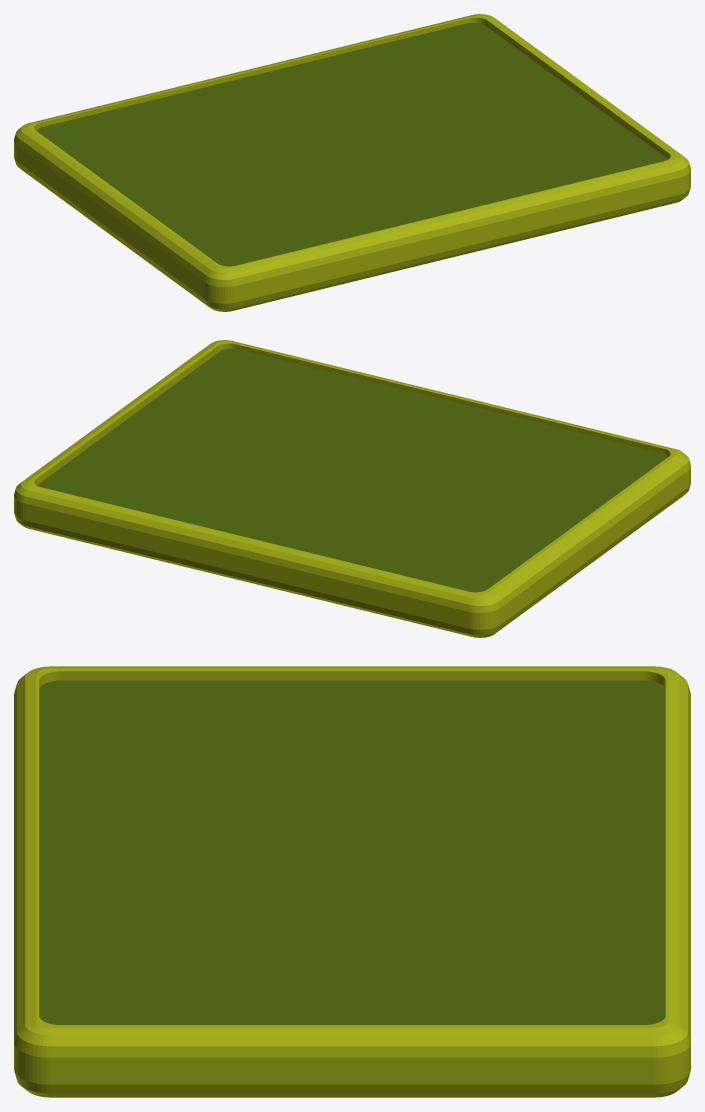
The model's file is moodlight.glb.
3 renders of one model, top to bottom at view 1: azimuth 30°, elevation 25°; view 2: azimuth 150°, elevation 25°; view 3: azimuth 270°, elevation 25°, orthographic. The views are drawn at different scales.
Parts seen in each view (by area): view 1: screen, box; view 2: screen, box; view 3: screen, box.
Part boxes in pixels (left/top/right/bottom): screen: left=37, top=22, right=667, bottom=266; box: left=14, top=14, right=690, bottom=311; screen: left=37, top=348, right=667, bottom=592; box: left=14, top=340, right=690, bottom=637; screen: left=39, top=680, right=665, bottom=1024; box: left=14, top=666, right=690, bottom=1097.
Size of the model in its own units: 1.2 by 0.1 by 0.9091.
